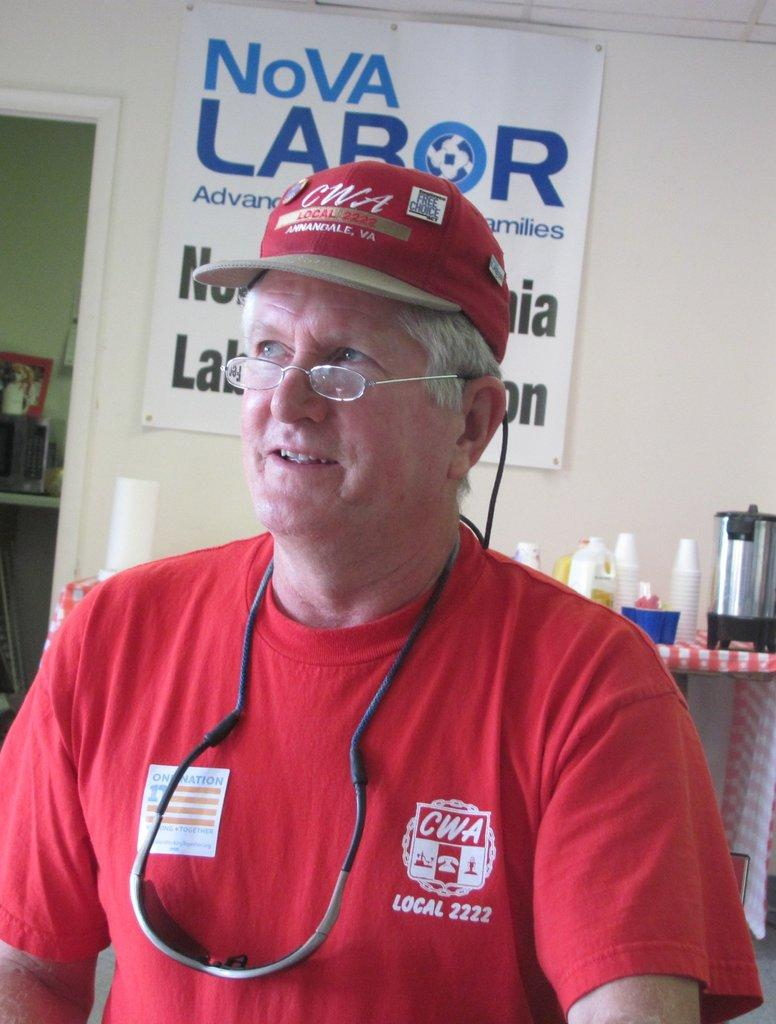Hat: (186, 164, 510, 358)
